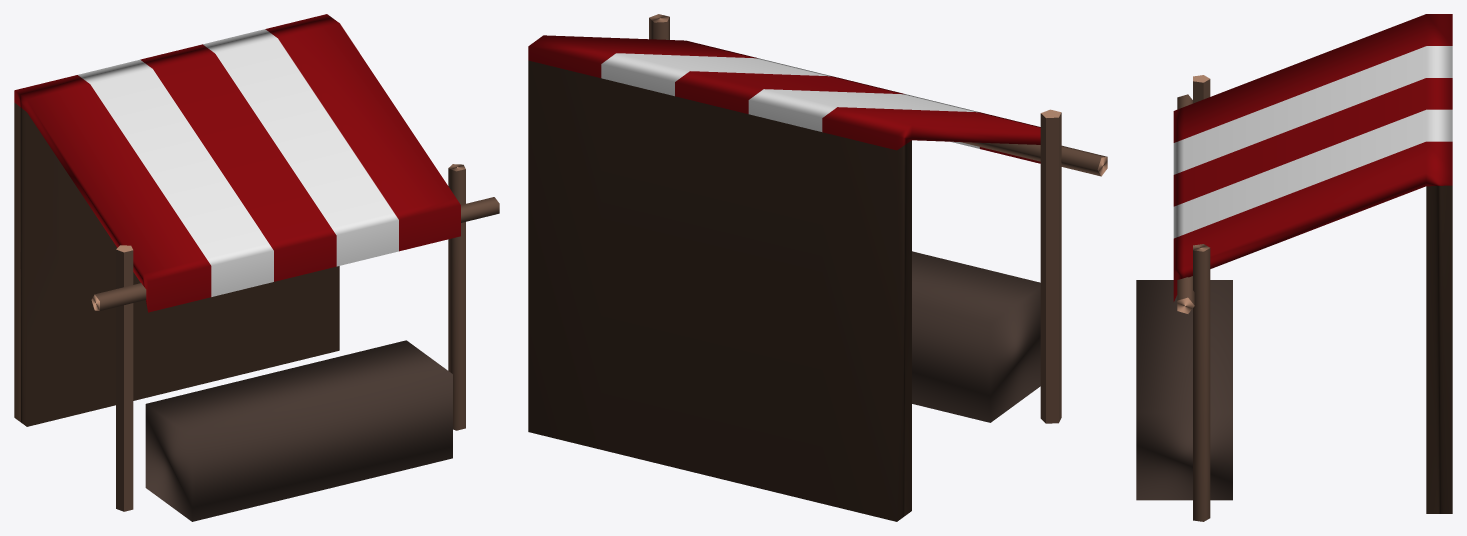
File: Stall.fbx
The picture shows the model from 3 angles, left to right: view 1: azimuth 30°, elevation 25°; view 2: azimuth 150°, elevation 25°; view 3: azimuth 270°, elevation 25°; orthographic projection. The views are drawn at different scales.
Parts seen in each view (by area): view 1: Cube, Cube.001, Cylinder, Cylinder.001, Cylinder.002; view 2: Cube, Cube.001, Cylinder, Cylinder.002; view 3: Cube, Cube.001, Cylinder.001, Cylinder.002, Cylinder.
Part boxes in pixels (x1,y1,x2,y2): Cube: [14, 14, 460, 426]; Cube.001: [145, 340, 452, 521]; Cylinder: [116, 245, 133, 511]; Cylinder.001: [448, 164, 465, 430]; Cylinder.002: [91, 197, 499, 310]; Cube: [528, 35, 1040, 521]; Cube.001: [912, 251, 1040, 422]; Cylinder: [1040, 109, 1061, 423]; Cylinder.002: [960, 142, 1107, 176]; Cube: [1173, 14, 1452, 513]; Cube.001: [1136, 280, 1232, 500]; Cylinder.001: [1193, 244, 1210, 521]; Cylinder.002: [1177, 94, 1194, 313]; Cylinder: [1193, 75, 1210, 103].
Size of the model in its own units: 994 by 778 by 654.
